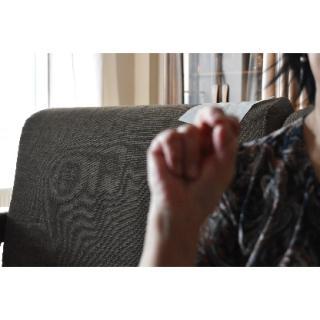QAAF: (139, 102, 242, 218)
